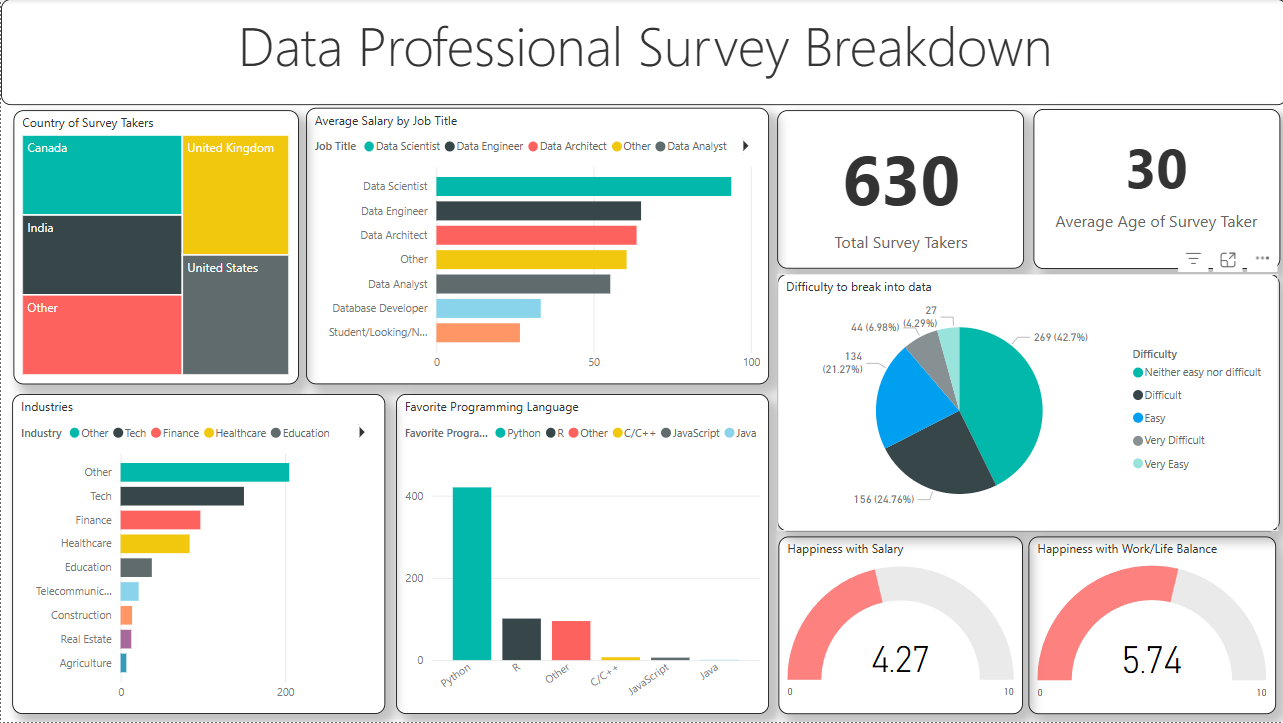

This screenshot's page, from the dashboard's own definition file:
{"tool":"powerbi","page":{"name":"Page 1","canvas":[1280,720],"ordinal":0},"visuals":[{"type":"textbox","box":[0,0,1280.3,105.7],"z":0},{"type":"cardVisual","fields":{"Data":["CountNonNull(Data Professional Survey.Unique ID)"]},"box":[772.8,111.3,245.8,157.7],"z":1000},{"type":"cardVisual","fields":{"Data":["Avg(Data Professional Survey.Q10 - Current Age)"]},"box":[1027.2,110.1,245.8,159],"z":2000},{"type":"barChart","title":"Average Salary by Job Title","fields":{"Y":["Avg(Data Professional Survey.Average Salary)"],"Category":["Data Professional Survey.Q1 - Which Title Best Fits your Current Role?.1"],"Series":["Data Professional Survey.Q1 - Which Title Best Fits your Current Role?.1"]},"box":[303.3,108.8,461,275.1],"z":3000},{"type":"columnChart","title":"Favorite Programming Language","fields":{"Category":["Data Professional Survey.Q5 - Favorite Programming Language.1"],"Y":["CountNonNull(Data Professional Survey.Unique ID)"],"Series":["Data Professional Survey.Q5 - Favorite Programming Language.1"]},"box":[393.2,393.2,371.6,318.3],"z":4000},{"type":"gauge","title":"Happiness with Work/Life Balance","fields":{"Y":["Avg(Data Professional Survey.Q6 - How Happy are you in your Current Position with the following? (Work/Life Balance))"],"MinValue":["Min(Data Professional Survey.Q6 - How Happy are you in your Current Position with the following? (Work/Life Balance))"],"MaxValue":["Max(Data Professional Survey.Q6 - How Happy are you in your Current Position with the following? (Work/Life Balance))"]},"box":[1022.5,534.3,246.3,177.1],"z":5000},{"type":"gauge","title":"Happiness with Salary","fields":{"Y":["Avg(Data Professional Survey.Q6 - How Happy are you in your Current Position with the following? (Salary))"],"MinValue":["Min(Data Professional Survey.Q6 - How Happy are you in your Current Position with the following? (Salary))"],"MaxValue":["Max(Data Professional Survey.Q6 - How Happy are you in your Current Position with the following? (Salary))"]},"box":[773.4,534.3,243.4,177.1],"z":6000},{"type":"treemap","title":"Country of Survey Takers","fields":{"Group":["Data Professional Survey.Q11 - Which Country do you live in?.1"],"Values":["Count(Data Professional Survey.Q11 - Which Country do you live in?.1)"]},"box":[12.2,111.3,283.7,272.7],"z":7000},{"type":"pieChart","title":"Difficulty to break into data","fields":{"Y":["CountNonNull(Data Professional Survey.Q7 - How difficult was it for you to break into Data?)"],"Category":["Data Professional Survey.Q7 - How difficult was it for you to break into Data?"]},"box":[771.9,273.6,499.7,256.3],"z":8000},{"type":"barChart","title":"Industries","fields":{"Category":["Data Professional Survey.Q4 - What Industry do you work in?.1"],"Y":["CountNonNull(Data Professional Survey.Unique ID)"],"Series":["Data Professional Survey.Q4 - What Industry do you work in?.1"]},"box":[11.5,393.2,371.6,318.3],"z":9000}]}

Visuals, with their boxes in screenshot pixels (x1, y1, x2, y2), scaled from the page's 1280x720 canvas onto the 1283x723 screenshot:
textbox: crop(0, 0, 1282, 106)
cardVisual - CountNonNull(Data Professional Survey.Unique ID): crop(775, 112, 1021, 270)
cardVisual - Avg(Data Professional Survey.Q10 - Current Age): crop(1030, 111, 1276, 270)
"Average Salary by Job Title" barChart: crop(304, 109, 766, 385)
"Favorite Programming Language" columnChart: crop(394, 395, 767, 714)
"Happiness with Work/Life Balance" gauge: crop(1025, 537, 1272, 714)
"Happiness with Salary" gauge: crop(775, 537, 1019, 714)
"Country of Survey Takers" treemap: crop(12, 112, 297, 386)
"Difficulty to break into data" pieChart: crop(774, 275, 1275, 532)
"Industries" barChart: crop(12, 395, 384, 714)
